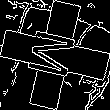M_E: (25, 27, 85, 83)
